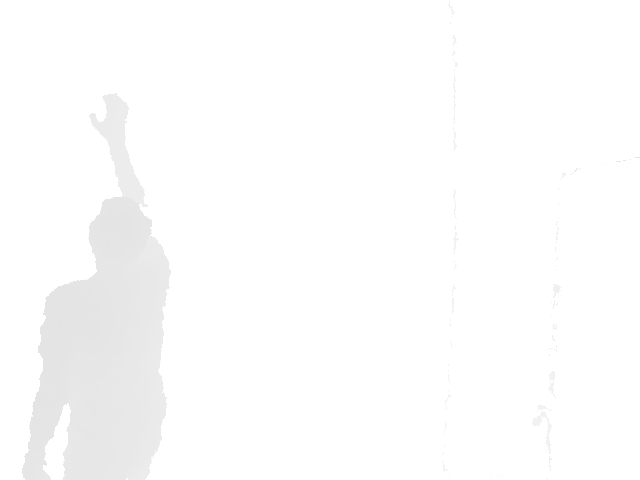hand: (89, 92, 130, 140)
head: (87, 195, 154, 276)
person: (21, 92, 173, 480)
